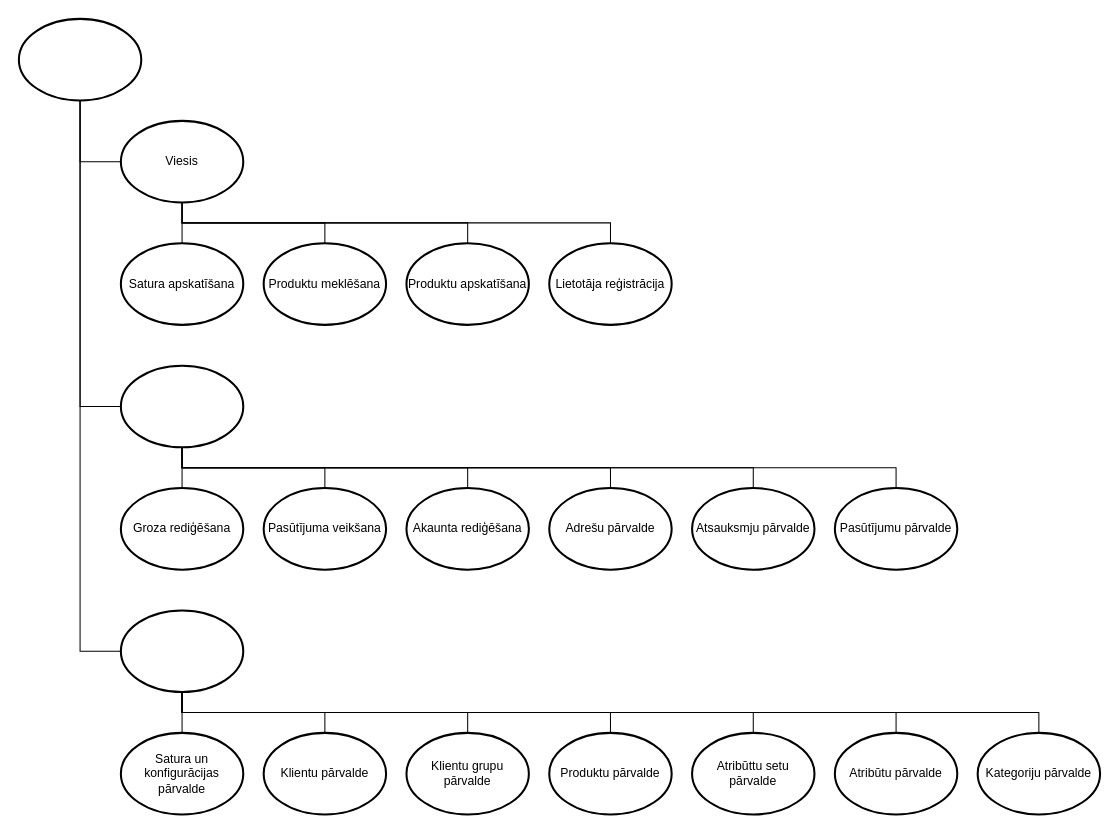
This 1118x832 diagram has some shape labels left out. Each missing label, with the box of its shape:
Administrātors: (119, 609, 244, 693)
Reģistrēts lietotājs: (119, 364, 244, 448)
Sistēma: (17, 17, 142, 101)
